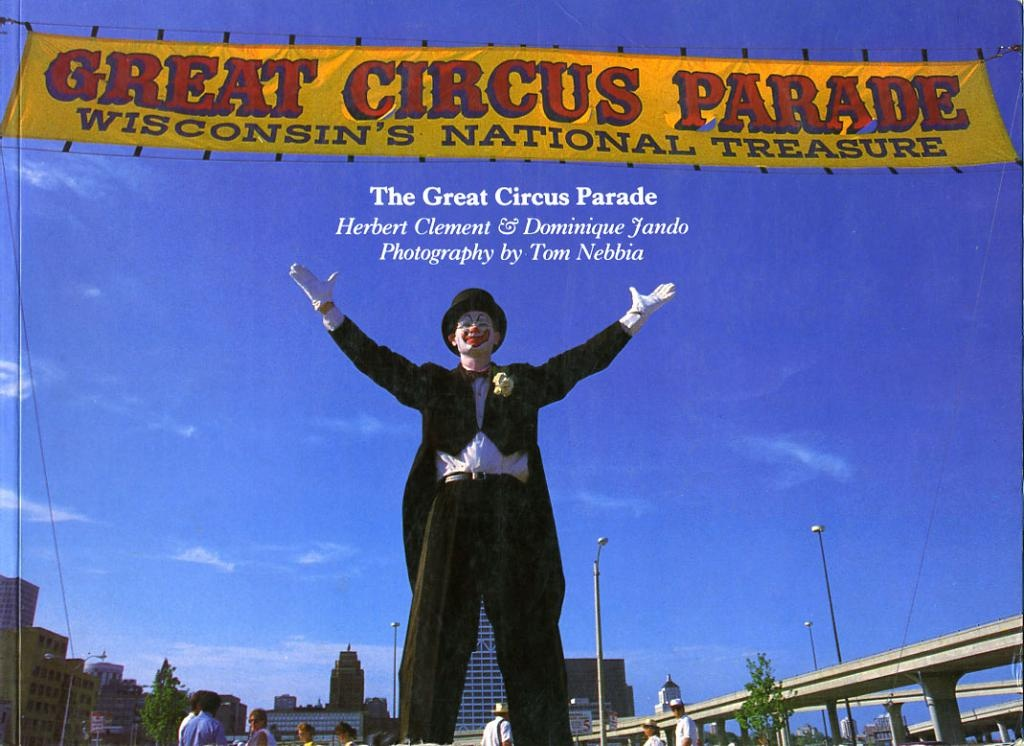human_face: (454, 308, 494, 352), (248, 716, 260, 730), (670, 705, 682, 717), (337, 730, 347, 742), (644, 725, 654, 735), (298, 728, 306, 738)
